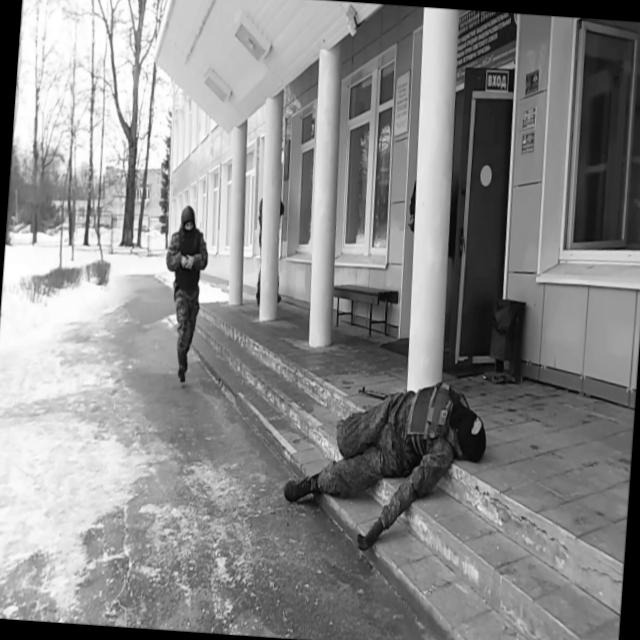gun: (356, 382, 394, 402)
person: (156, 201, 212, 384)
person with a gun: (280, 368, 490, 558)
